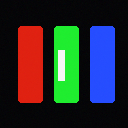4 line_v: (58, 50, 64, 80)
